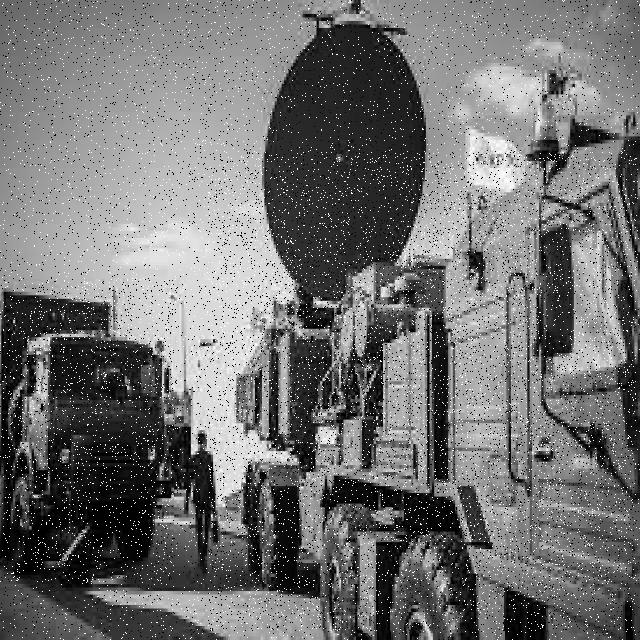MIL_MBT: (208, 152, 636, 631), (2, 280, 174, 582)
